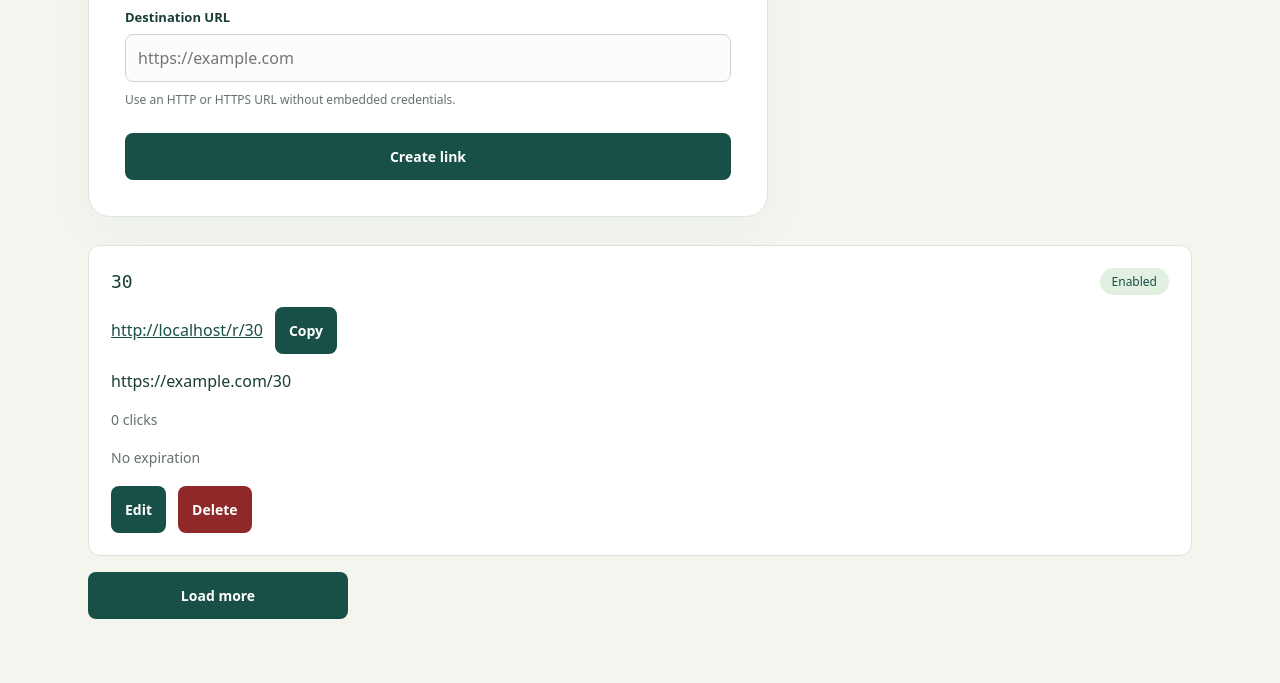
failed next page preserves links and retries the same cursor
(page scrolled)
Check: the text "https://example.com/30" is shown, box 111,370 -> 291,392
Click the button "Load more": (218, 595) 88,572 -> 348,619
(page scrolled)
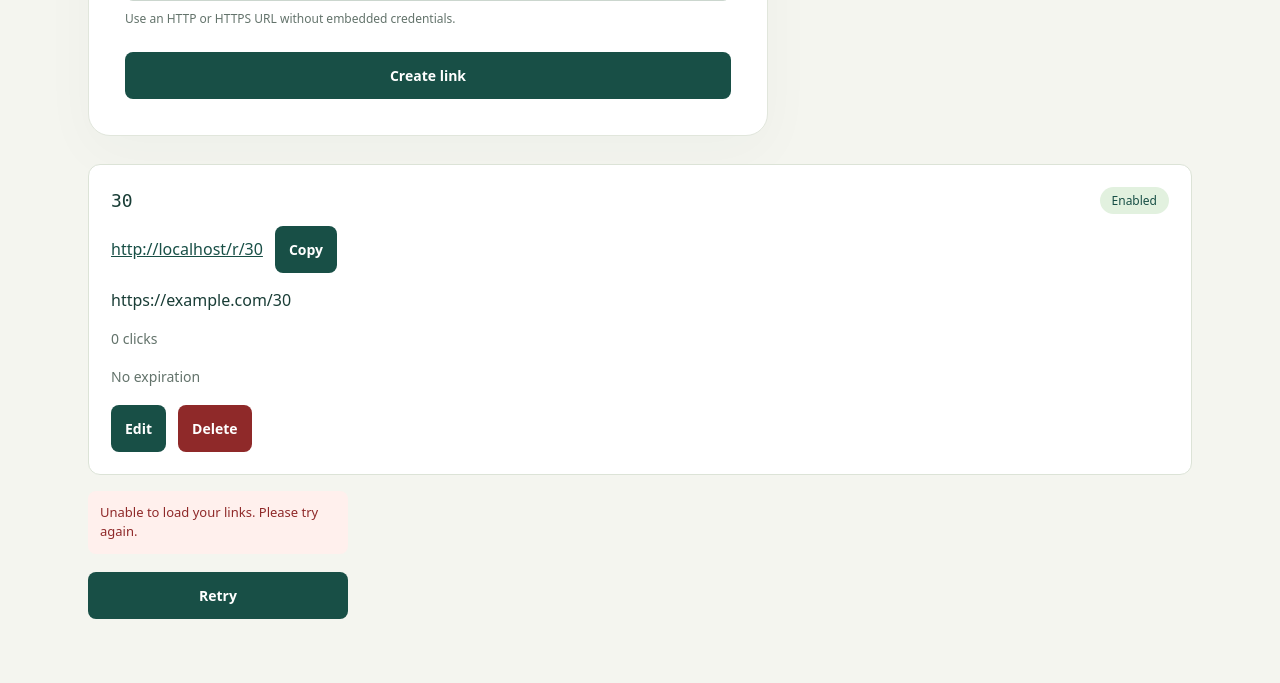
Check: the text "https://example.com/30" is shown, box 111,289 -> 291,311
Check: the message "Unable to load your links. Please try again." is shown, box 88,491 -> 348,554
Click the button "Retry": (218, 595) 88,572 -> 348,619
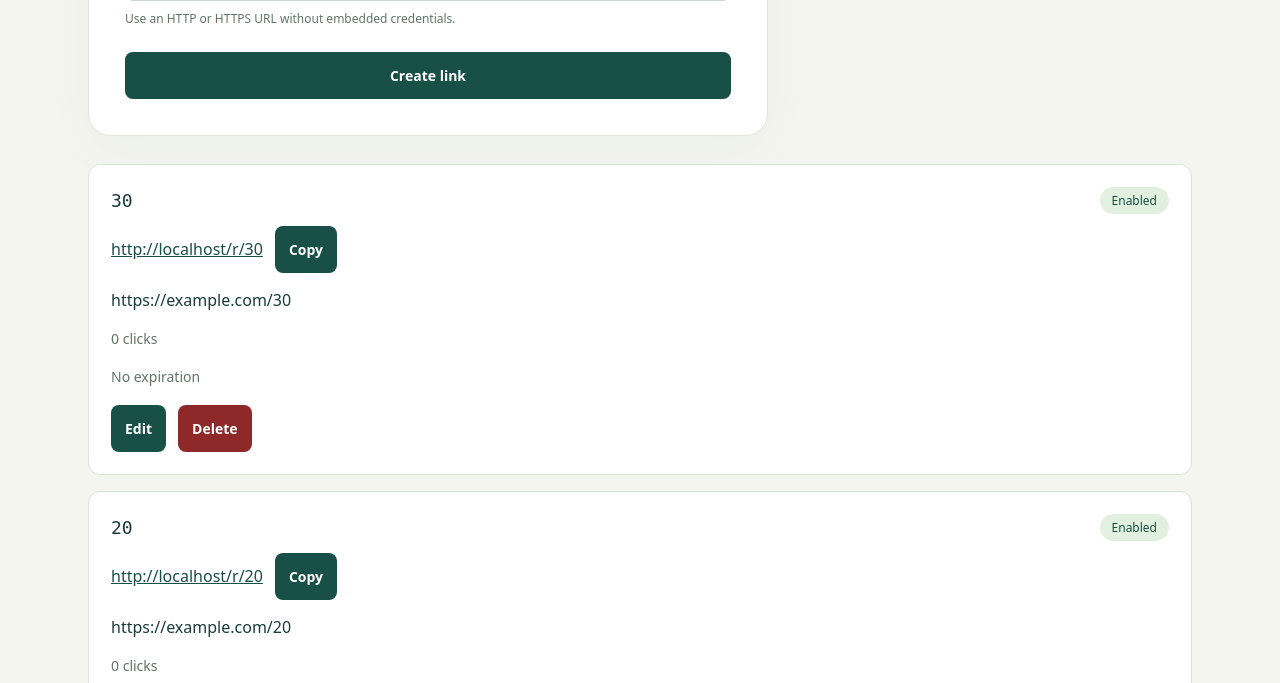
Check: the text "https://example.com/20" is shown, box 111,616 -> 291,638
